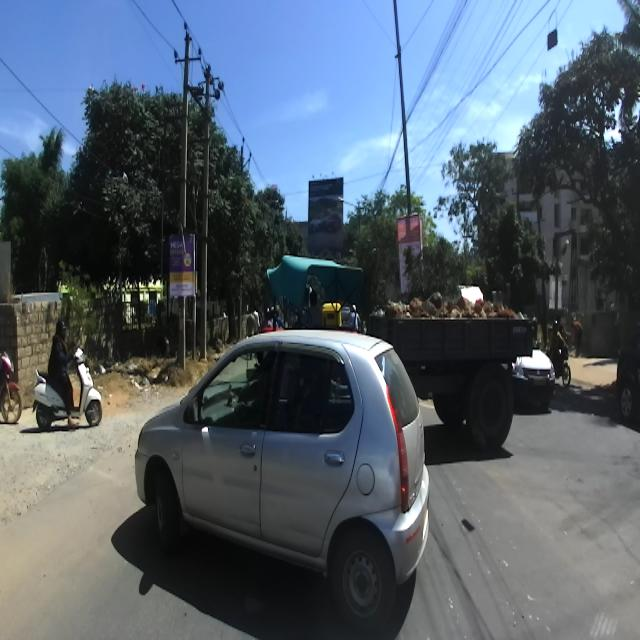car ahead at: (132, 326, 446, 640)
electric pole ahead at: (167, 0, 230, 377)
motorcycle ahead at: (31, 318, 105, 432)
